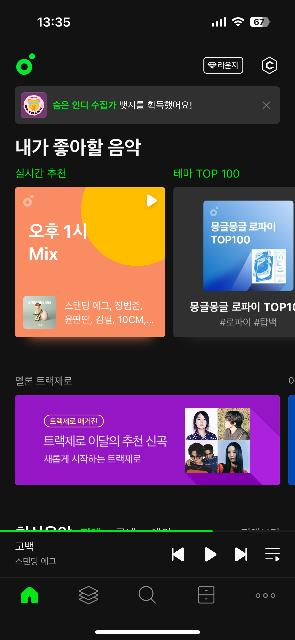Bottom_Navigation: (0, 574, 295, 639)
Card: (15, 394, 280, 486), (15, 187, 165, 337)
Icon: (78, 585, 98, 605), (20, 585, 38, 605), (138, 586, 156, 604), (262, 56, 278, 74), (198, 586, 214, 604), (170, 546, 186, 562), (234, 546, 248, 562), (266, 547, 280, 561), (146, 194, 158, 208), (205, 548, 217, 562), (256, 594, 276, 598), (208, 62, 216, 70), (262, 101, 270, 109)
Image: (204, 200, 294, 290), (186, 406, 250, 474), (24, 296, 56, 330), (21, 92, 47, 118), (16, 50, 36, 76)
Text: (44, 436, 168, 462), (16, 138, 142, 158), (30, 223, 88, 260), (66, 301, 154, 325), (53, 100, 193, 110), (190, 300, 286, 312), (16, 375, 72, 387), (174, 168, 240, 178), (221, 318, 277, 327), (17, 168, 66, 178), (16, 556, 56, 566), (50, 418, 98, 426), (16, 542, 34, 550), (218, 62, 238, 68)
TextImageButton: (204, 56, 244, 74)
Toolbar: (0, 33, 295, 81)
UpperTaskBar: (0, 0, 295, 33)
